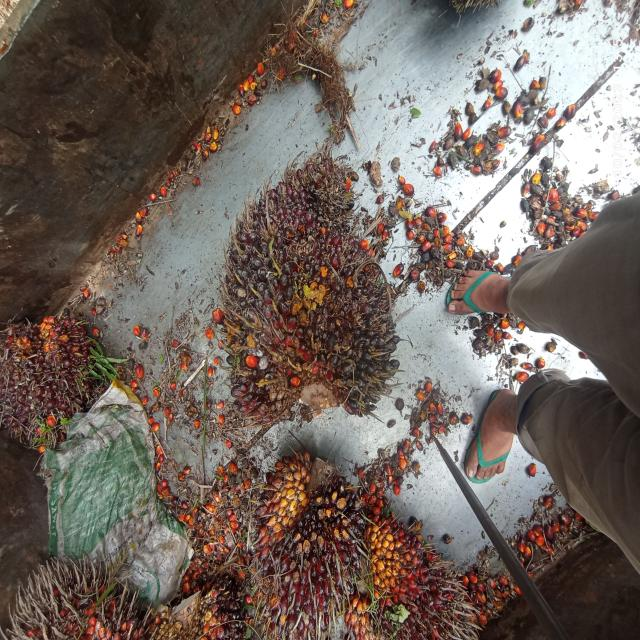fraksi 00: (213, 156, 427, 462)
fraksi 1: (245, 431, 376, 639), (0, 294, 114, 445)
fraksi 3: (356, 515, 469, 640)
